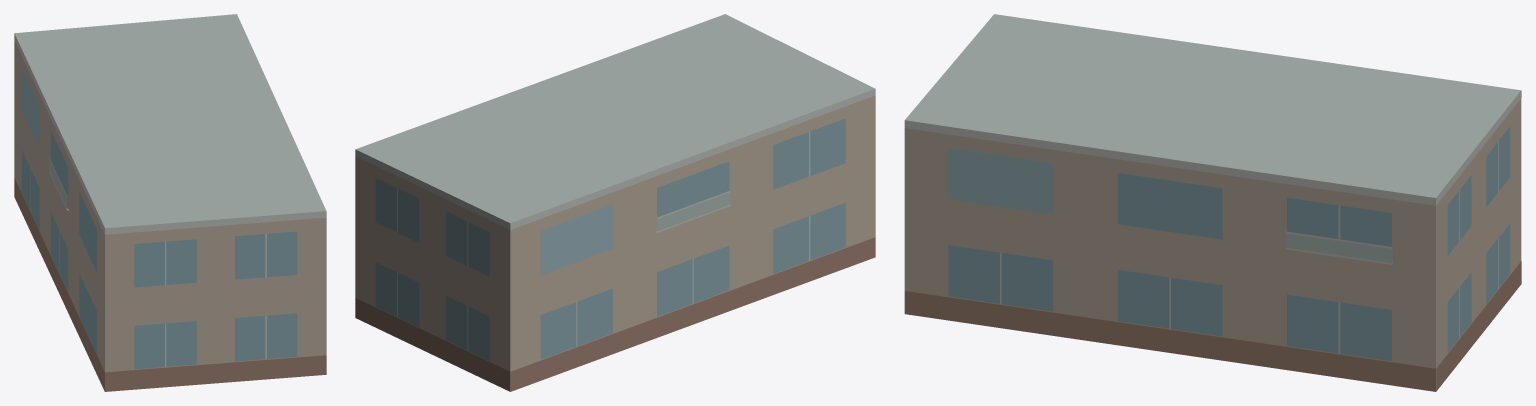
Rendered from survey-upis-32884221.glb.
3 renders of one model, left to right at view 1: azimuth 30°, elevation 25°; view 2: azimuth 150°, elevation 25°; view 3: azimuth 270°, elevation 25°, orthographic. The views are drawn at different scales.
Visible parts, largest first — view 1: survey-upis-32884221.tmp; view 2: survey-upis-32884221.tmp; view 3: survey-upis-32884221.tmp.
Boxes of the visible parts, <box> form: survey-upis-32884221.tmp: <box>14,14,326,391</box>; survey-upis-32884221.tmp: <box>355,14,875,391</box>; survey-upis-32884221.tmp: <box>904,14,1521,391</box>.
Size of the model in its own units: 12.44 by 6.1 by 17.61.
